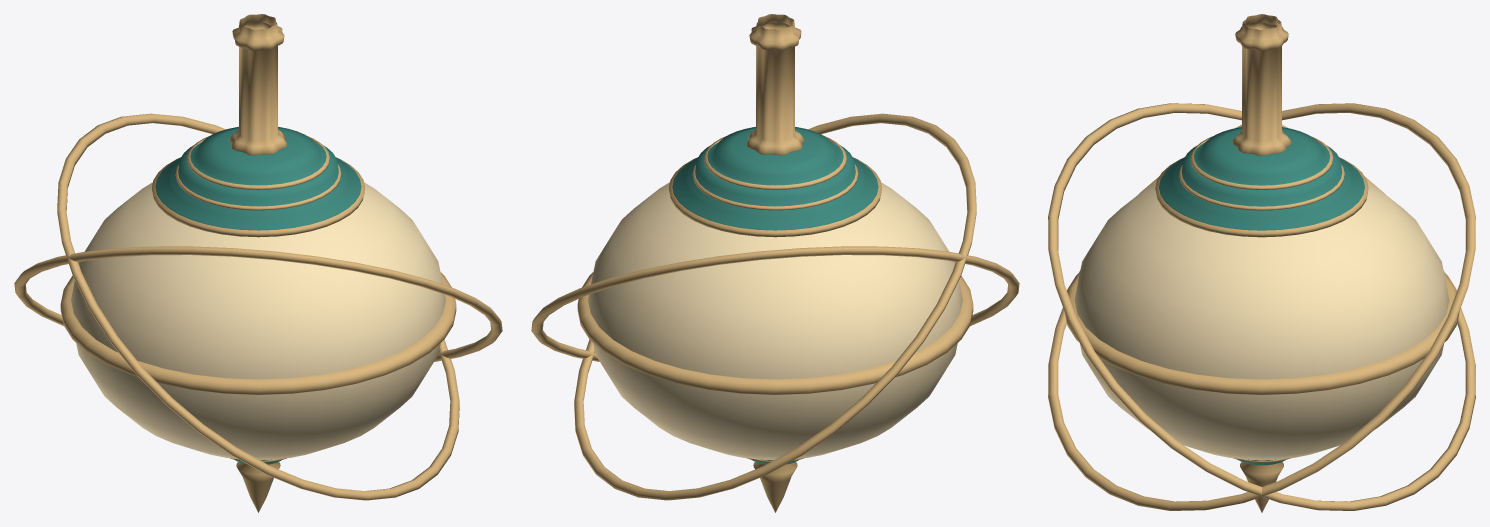
Rendered from Lantern.fbx.
3 renders of one model, left to right at view 1: azimuth 30°, elevation 25°; view 2: azimuth 150°, elevation 25°; view 3: azimuth 270°, elevation 25°, orthographic.
Parts seen in each view (by area): view 1: Lantern_LOD0; view 2: Lantern_LOD0; view 3: Lantern_LOD0.
Boxes of the visible parts, x1,y1,x2,y2 form: Lantern_LOD0: (14, 14, 502, 512); Lantern_LOD0: (531, 14, 1019, 512); Lantern_LOD0: (1048, 14, 1475, 512).
Size of what is drawn, in the model's own units: 197 by 235 by 186.
